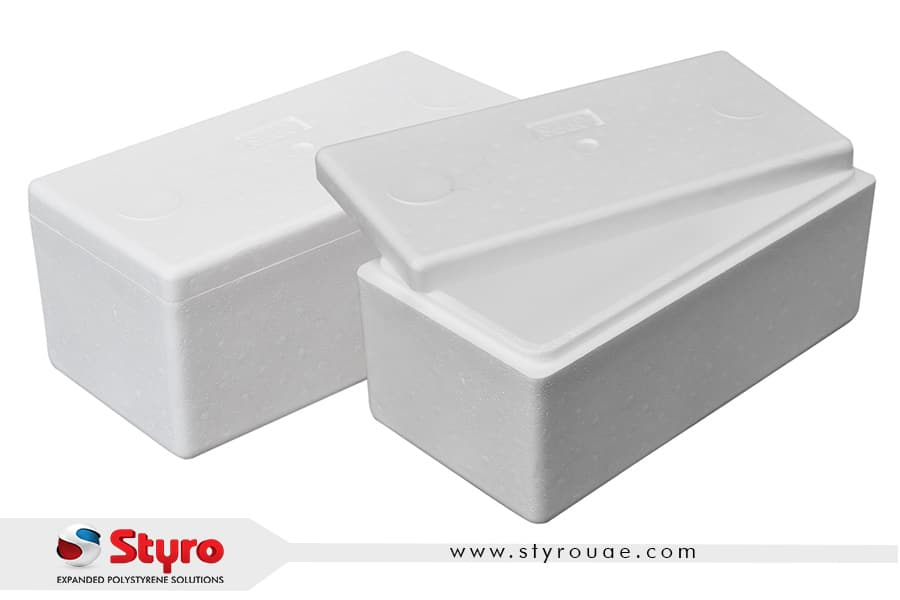Boxes: (31, 52, 875, 523)
